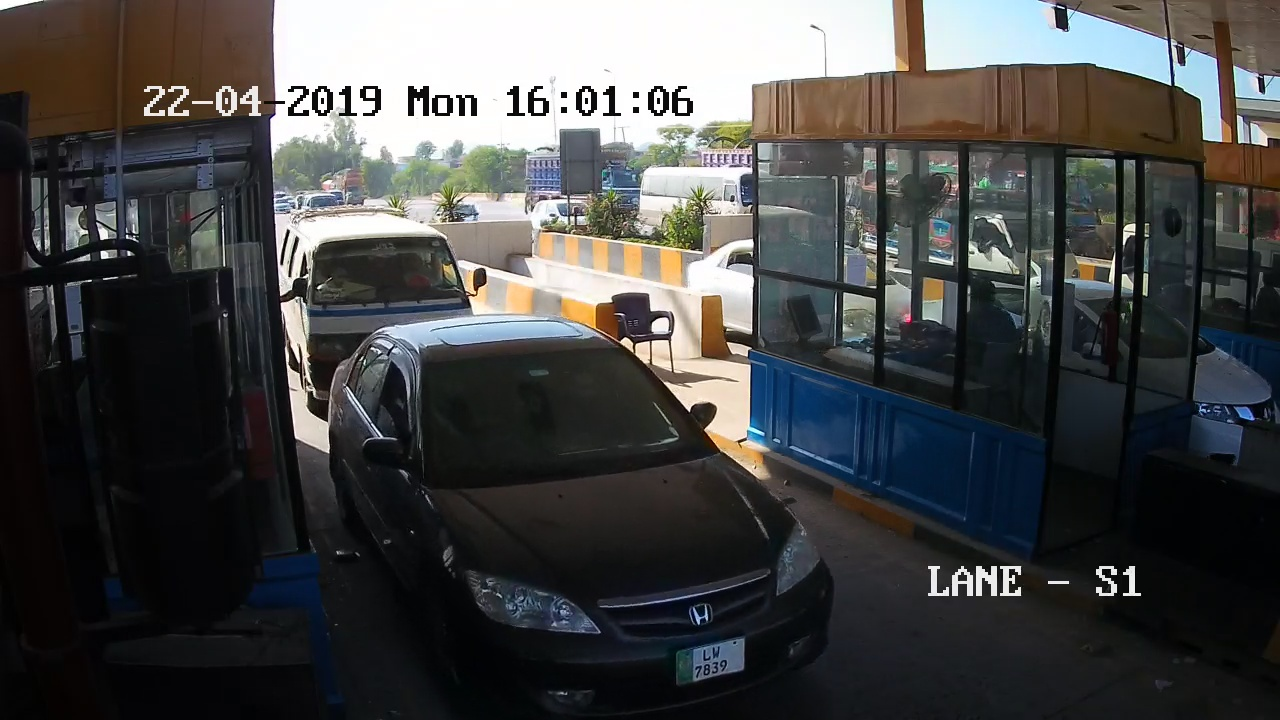Number Plate (Car): (674, 637, 743, 683)
